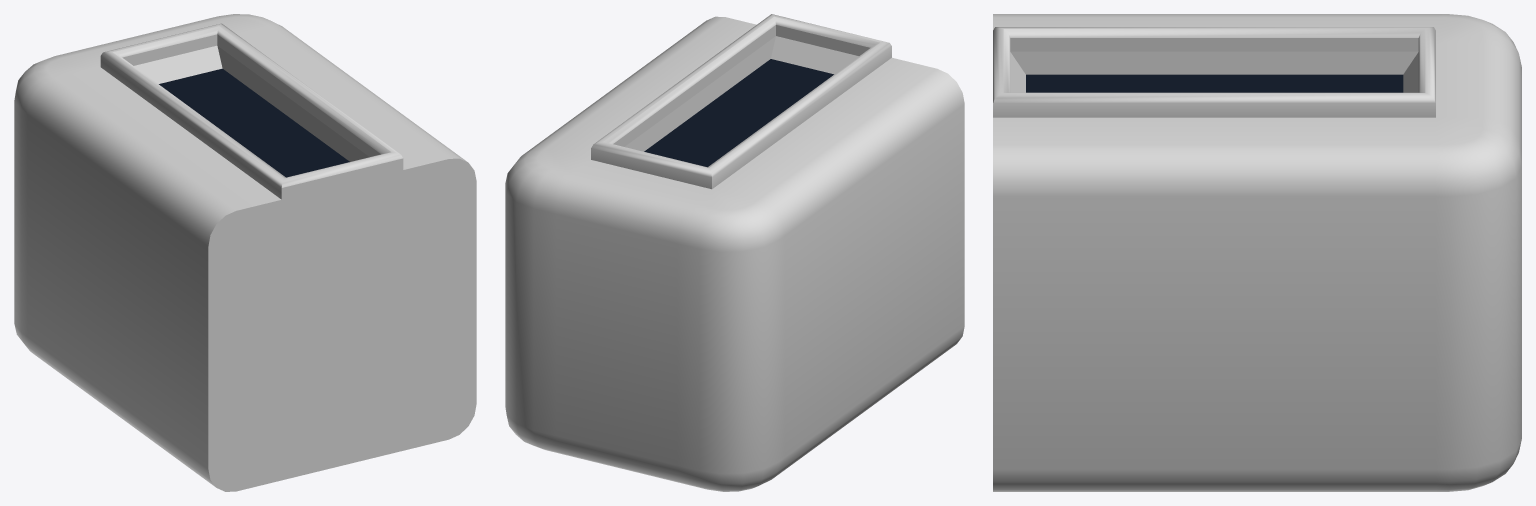
The model's file is gate.fbx.
The picture shows the model from 3 angles, left to right: view 1: azimuth 30°, elevation 25°; view 2: azimuth 150°, elevation 25°; view 3: azimuth 270°, elevation 25°; orthographic projection. The views are drawn at different scales.
Parts seen in each view (by area): view 1: Cube.001; view 2: Cube.001; view 3: Cube.001.
Part boxes in pixels (bbox=[...]): Cube.001: bbox=[14, 14, 476, 491]; Cube.001: bbox=[505, 14, 964, 491]; Cube.001: bbox=[993, 14, 1521, 491].
Size of the model in its own units: 1.21 by 1.28 by 1.69.
